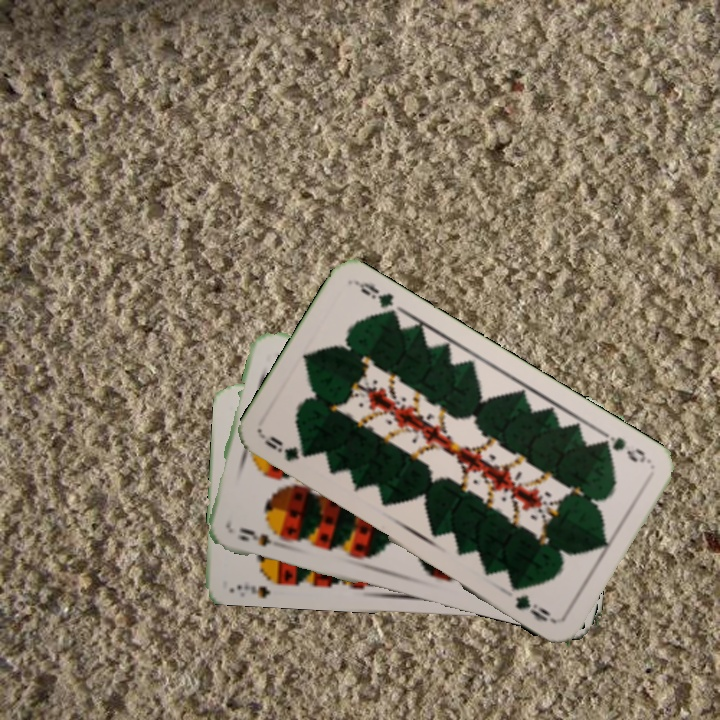G9: (595, 429, 653, 466), (259, 431, 310, 464)
S9: (232, 572, 287, 599), (235, 523, 287, 549)
